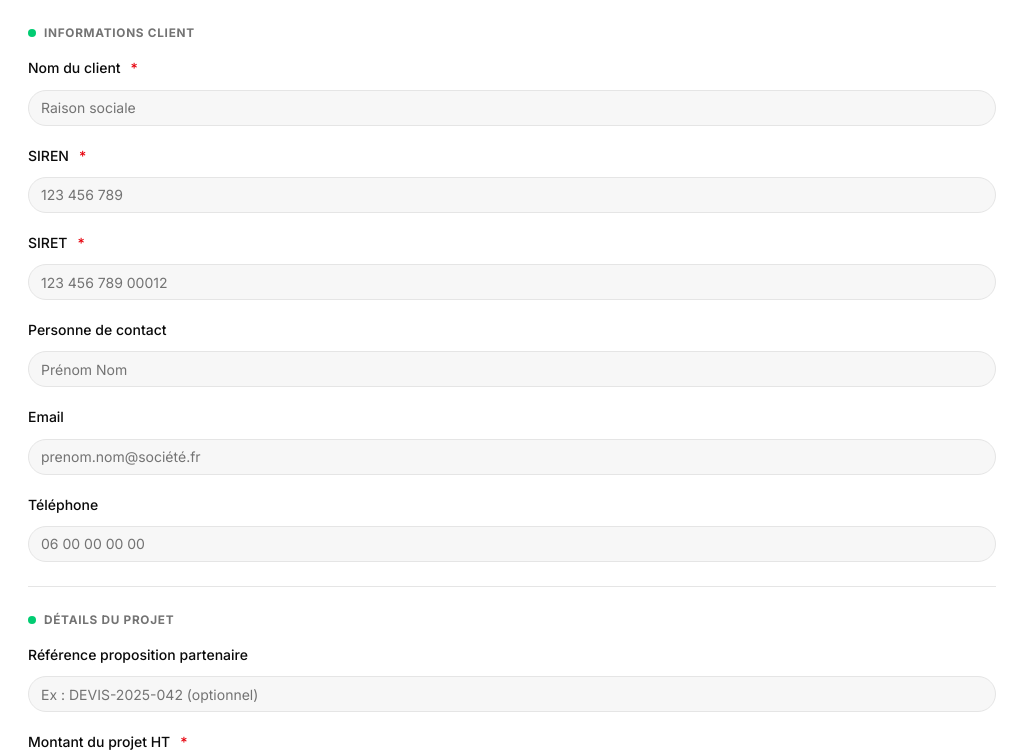
Test case: Phase 42 — clientSiret (FIELD-01 / D-01..D-04) › a SIRET/SIREN mismatch renders error.field.siret.mismatch inside #client-siret-error, not at the form root
In the field labelled "Nom du client *": (512, 108) x1=28 y1=90 x2=996 y2=126, type "ACME"
(page scrolled)
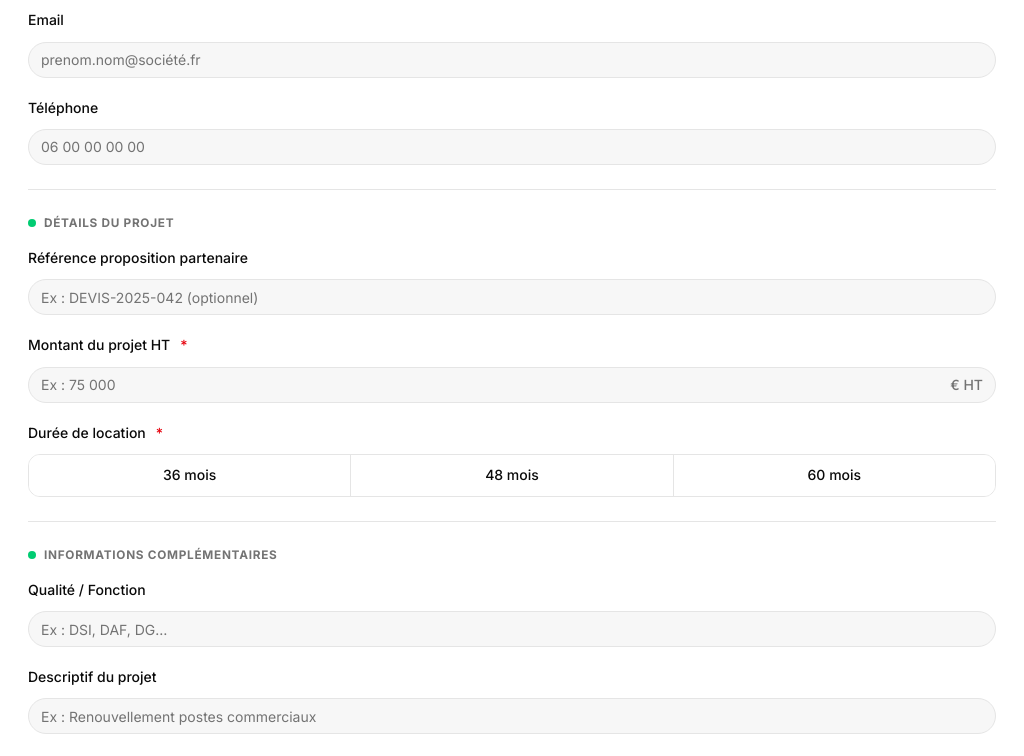
In the field labelled "Montant du projet HT *": (490, 385) x1=29 y1=367 x2=950 y2=403, type "10000"
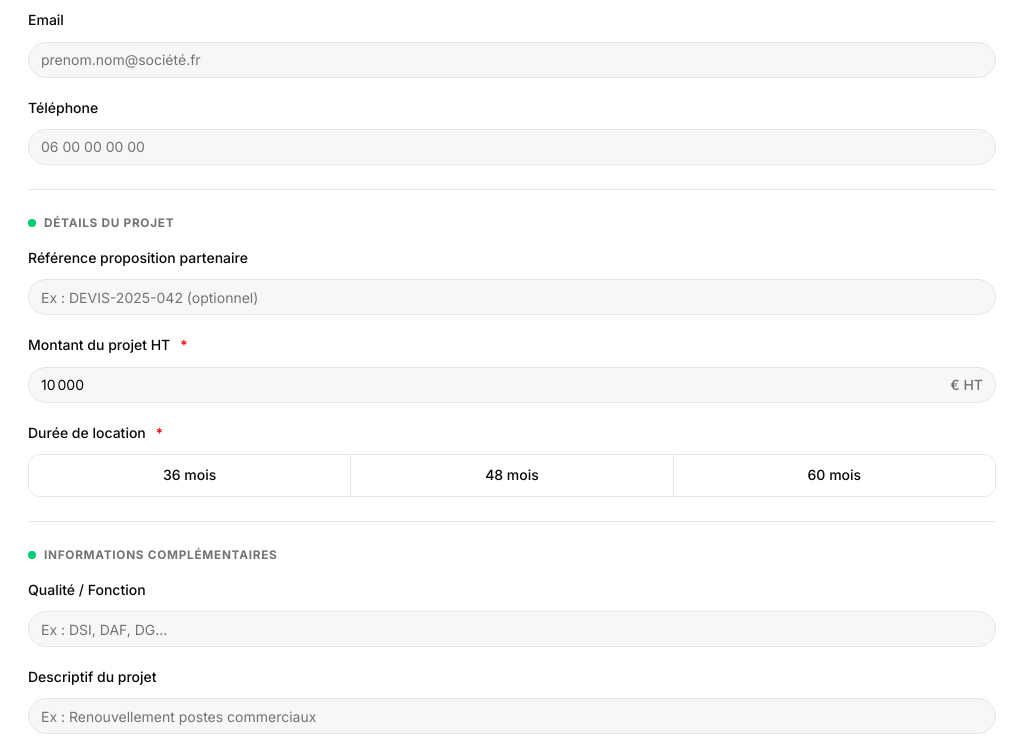
Click the radio button labelled "36 mois": (190, 475) x1=29 y1=455 x2=351 y2=496
(page scrolled)
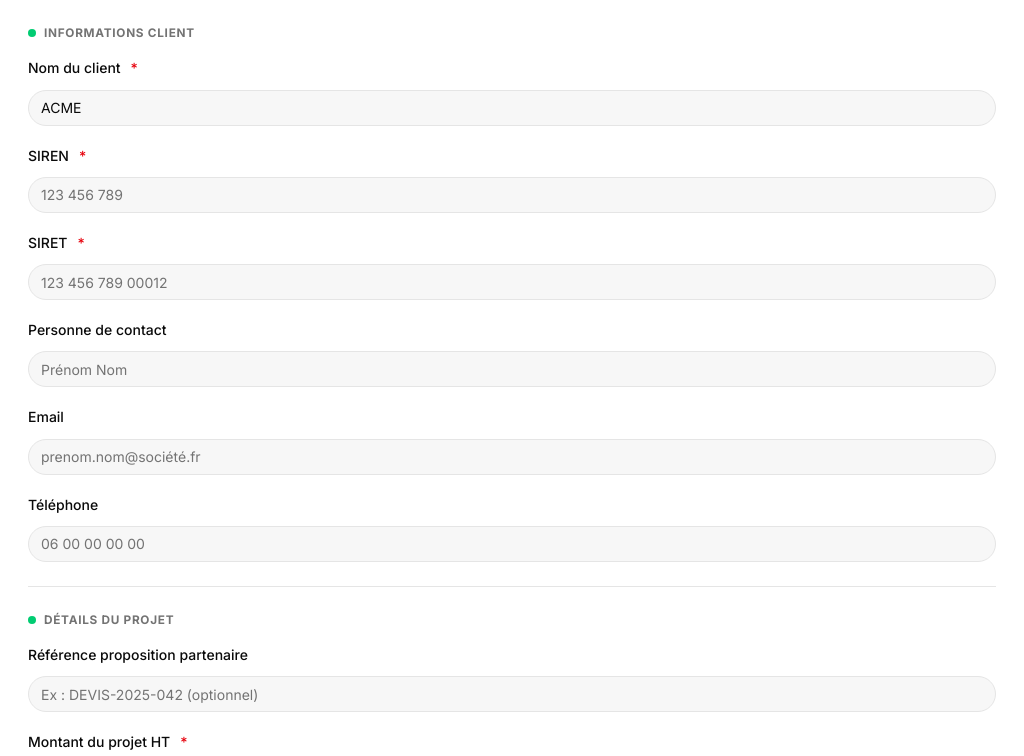
In the field labelled "SIREN *": (512, 195) x1=28 y1=177 x2=996 y2=213, type "123456789"
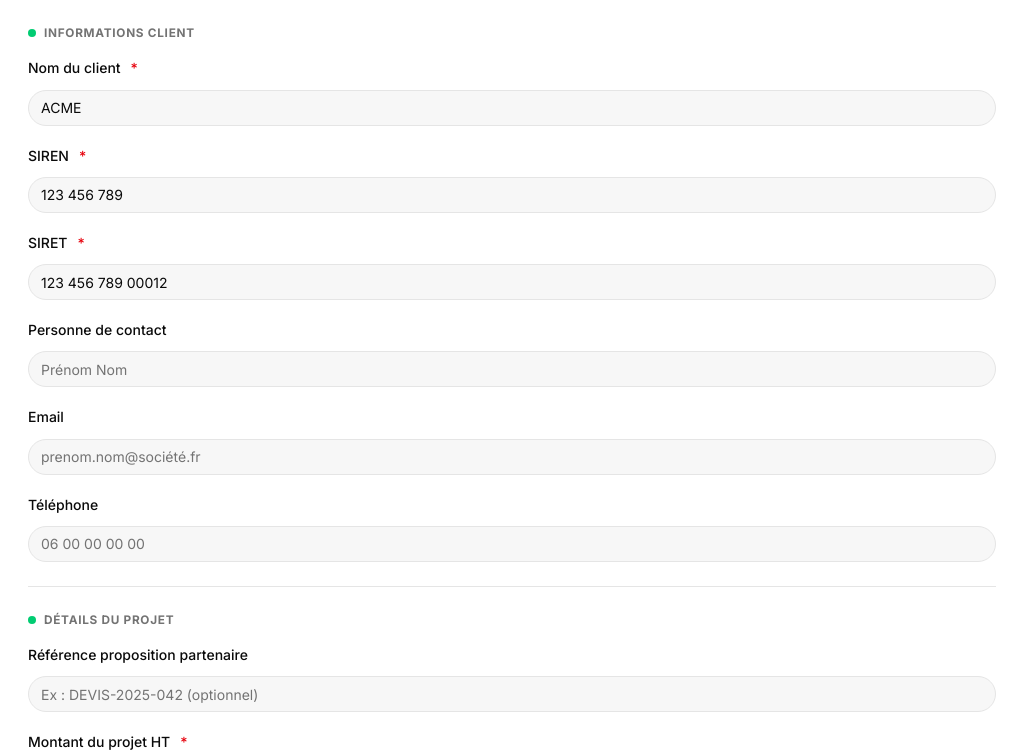
In the field labelled "SIRET *": (512, 282) x1=28 y1=264 x2=996 y2=300, type "99988877700012"
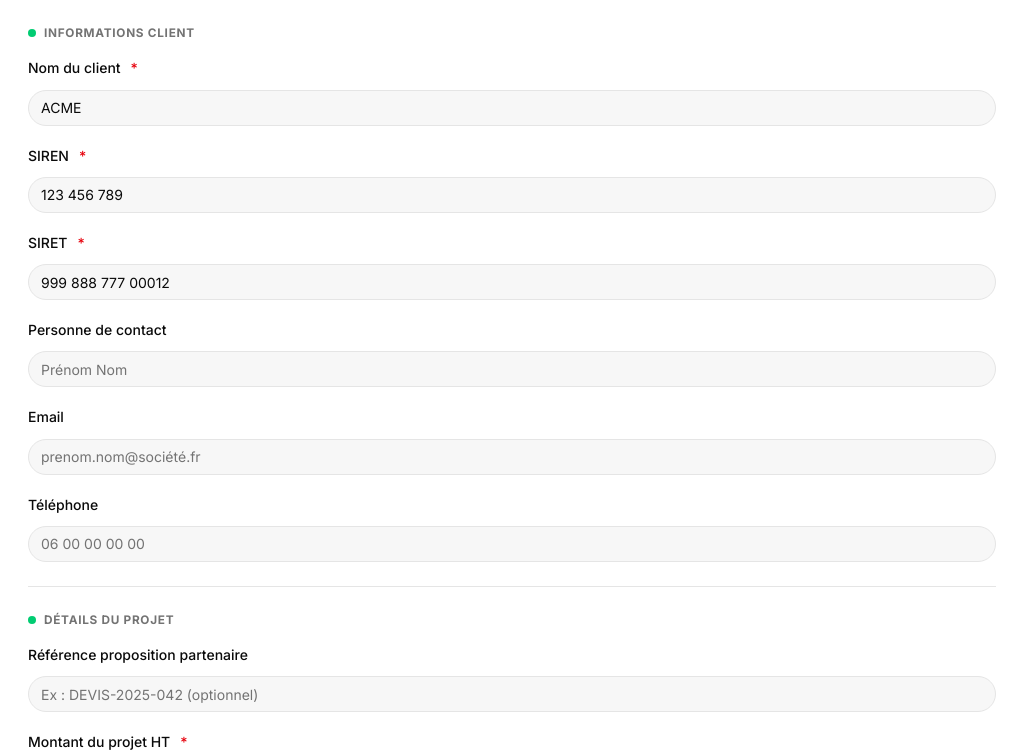
Leave the field labelled "SIRET *", box x1=28 y1=264 x2=996 y2=300
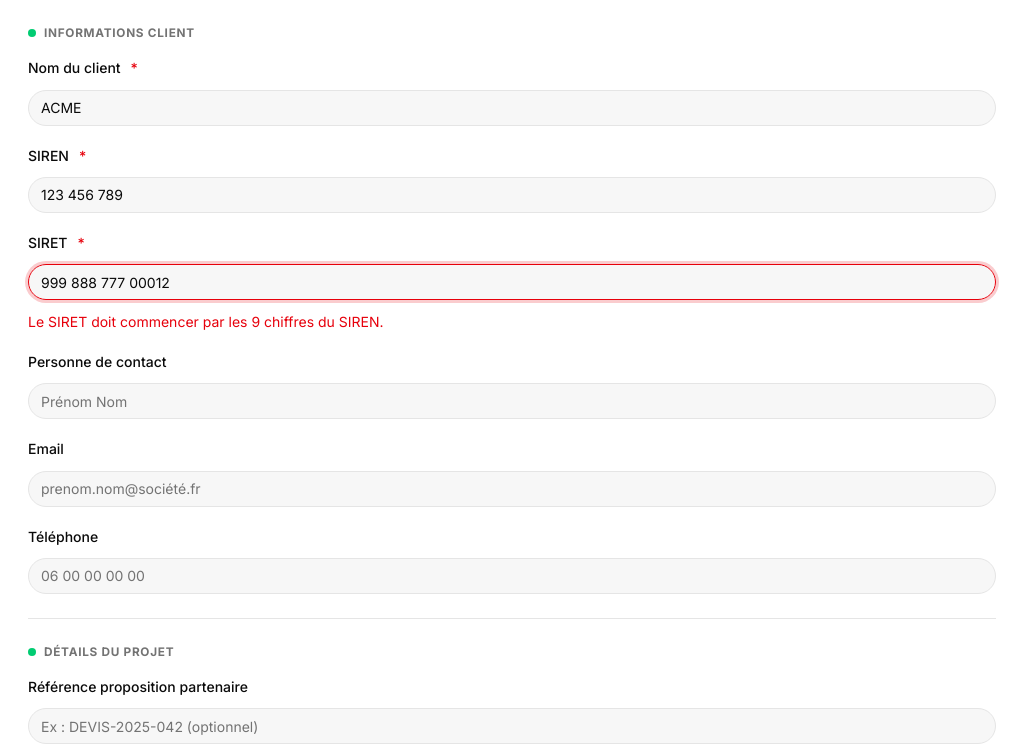
Check: the message with id "client-siret-error" shows "SIREN", box x1=28 y1=313 x2=384 y2=330
